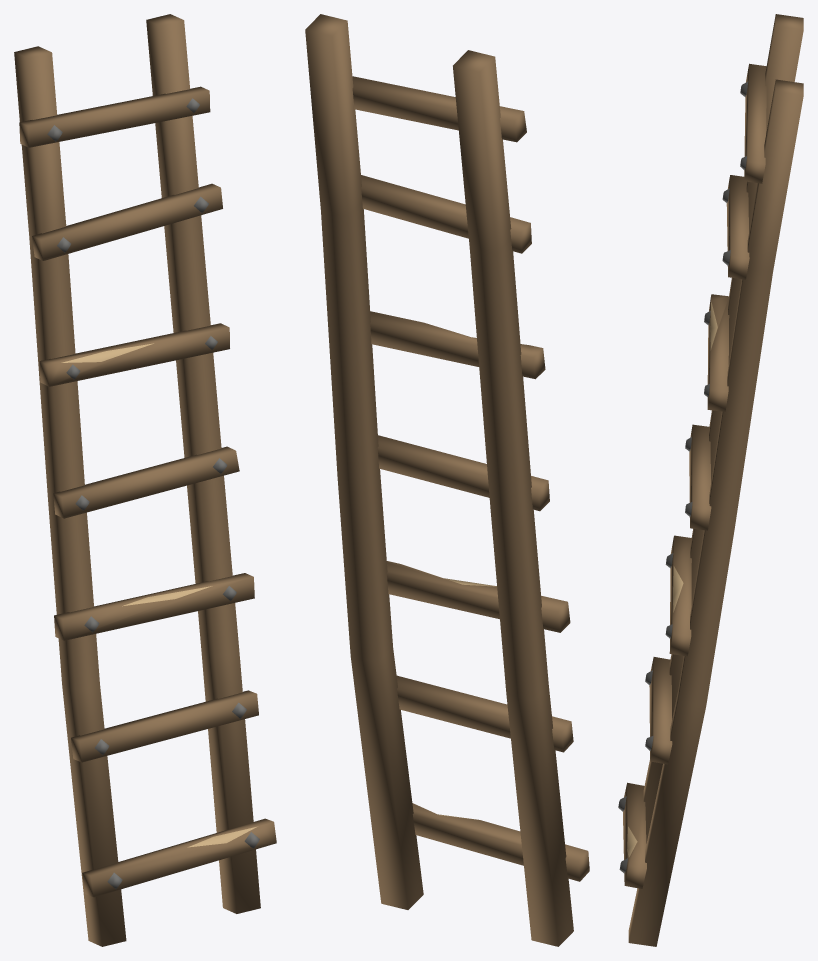
File: rpgpp_ag_ladder_01a.fbx
The picture shows the model from 3 angles, left to right: view 1: azimuth 30°, elevation 25°; view 2: azimuth 150°, elevation 25°; view 3: azimuth 270°, elevation 25°; orthographic projection. The views are drawn at different scales.
Visible parts, largest first — view 1: rpgpp_ag_ladder_01a; view 2: rpgpp_ag_ladder_01a; view 3: rpgpp_ag_ladder_01a.
Boxes of the visible parts, x1=… form: rpgpp_ag_ladder_01a: x1=14, y1=14, x2=276, y2=946; rpgpp_ag_ladder_01a: x1=305, y1=14, x2=589, y2=946; rpgpp_ag_ladder_01a: x1=618, y1=14, x2=803, y2=946.
Bounding box in the file's own units: 0.7109 × 2.99 × 0.5884.
